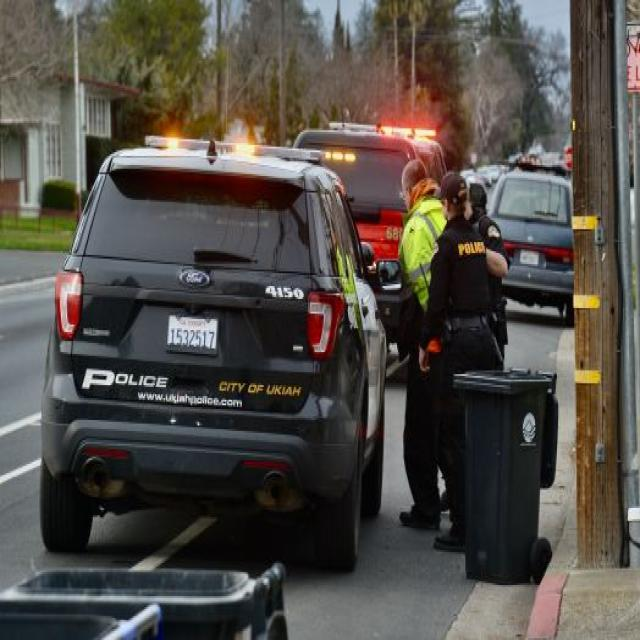police: (423, 174, 512, 555)
